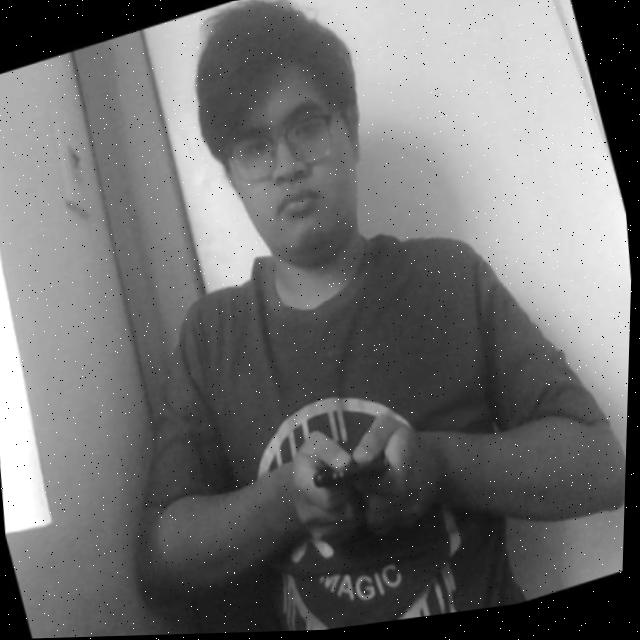phone: (299, 414, 419, 532)
